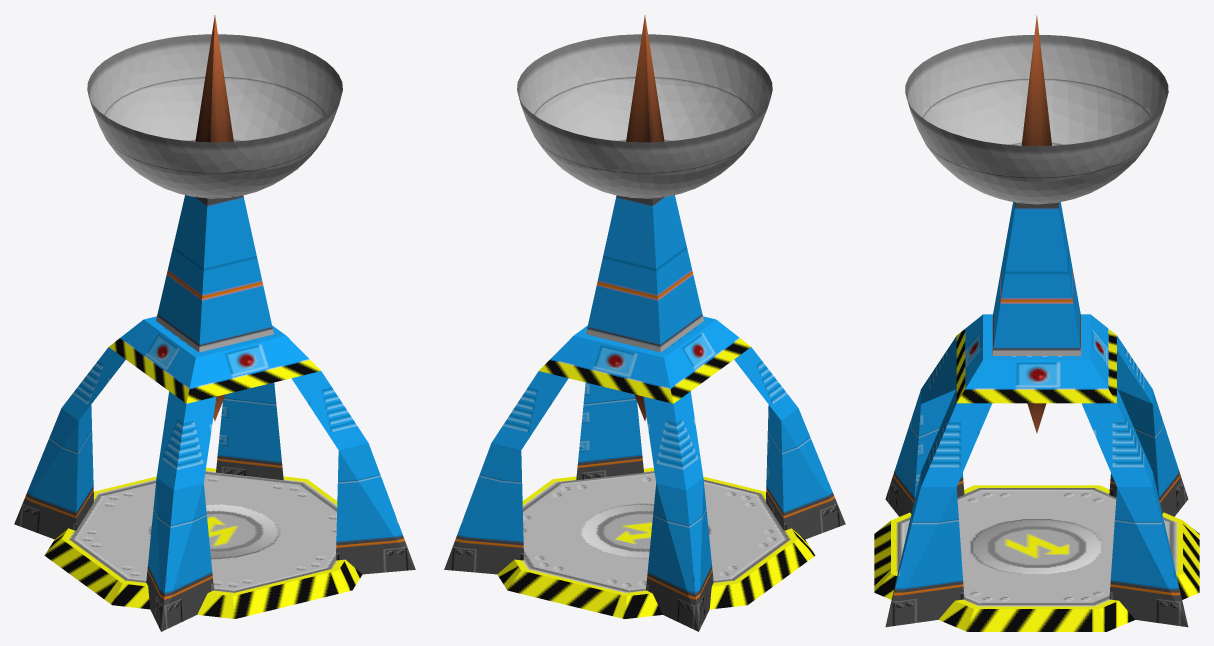
File: para.obj
3 renders of one model, left to right at view 1: azimuth 30°, elevation 25°; view 2: azimuth 150°, elevation 25°; view 3: azimuth 270°, elevation 25°, orthographic. The views are drawn at different scales.
Visible parts, largest first — view 1: ColobotMesh_1_ColobotMesh_, ColobotMesh_1.001_ColobotMesh_.001; view 2: ColobotMesh_1_ColobotMesh_, ColobotMesh_1.001_ColobotMesh_.001; view 3: ColobotMesh_1_ColobotMesh_, ColobotMesh_1.001_ColobotMesh_.001.
Part boxes in pixels (x1,y1,x2,y2): ColobotMesh_1_ColobotMesh_: (14, 15, 415, 631); ColobotMesh_1.001_ColobotMesh_.001: (87, 34, 342, 198); ColobotMesh_1_ColobotMesh_: (444, 15, 845, 631); ColobotMesh_1.001_ColobotMesh_.001: (517, 34, 772, 198); ColobotMesh_1_ColobotMesh_: (874, 15, 1199, 631); ColobotMesh_1.001_ColobotMesh_.001: (905, 35, 1168, 204).
Bounding box in the file's own units: 36.48 × 68 × 36.48.
